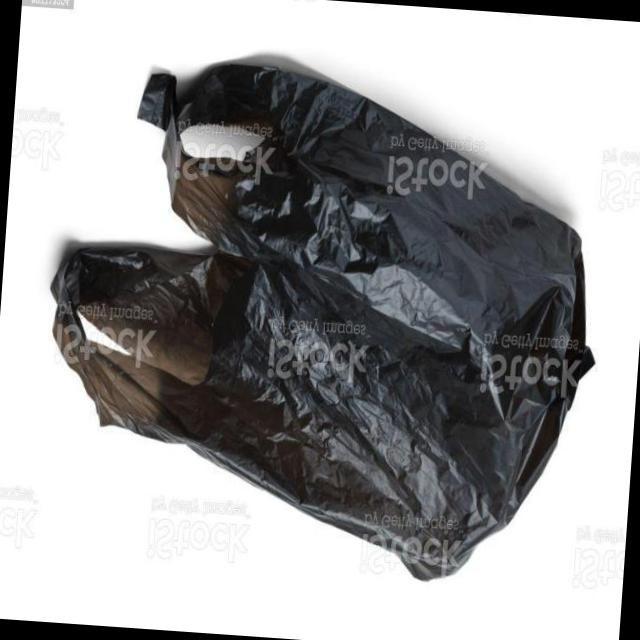KantongPlastik: (30, 51, 614, 594)
